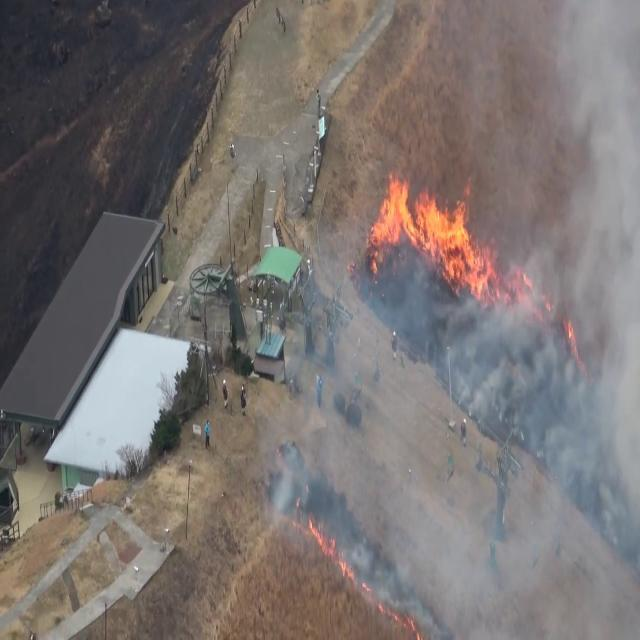Fire: (366, 167, 494, 296)
Smoke: (266, 256, 640, 634), (460, 1, 640, 631)
